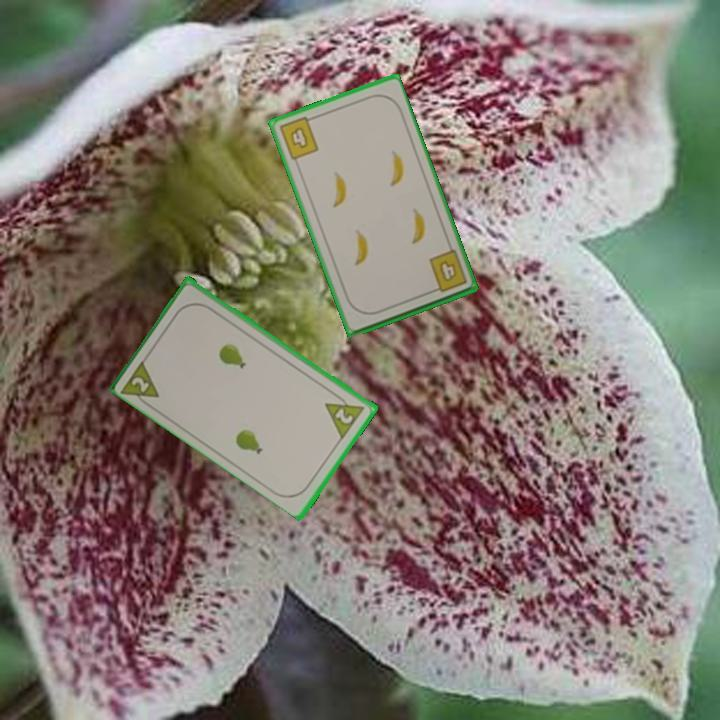2p: (118, 355, 163, 412), (321, 388, 368, 441)
4b: (275, 112, 321, 163), (425, 246, 470, 296)
